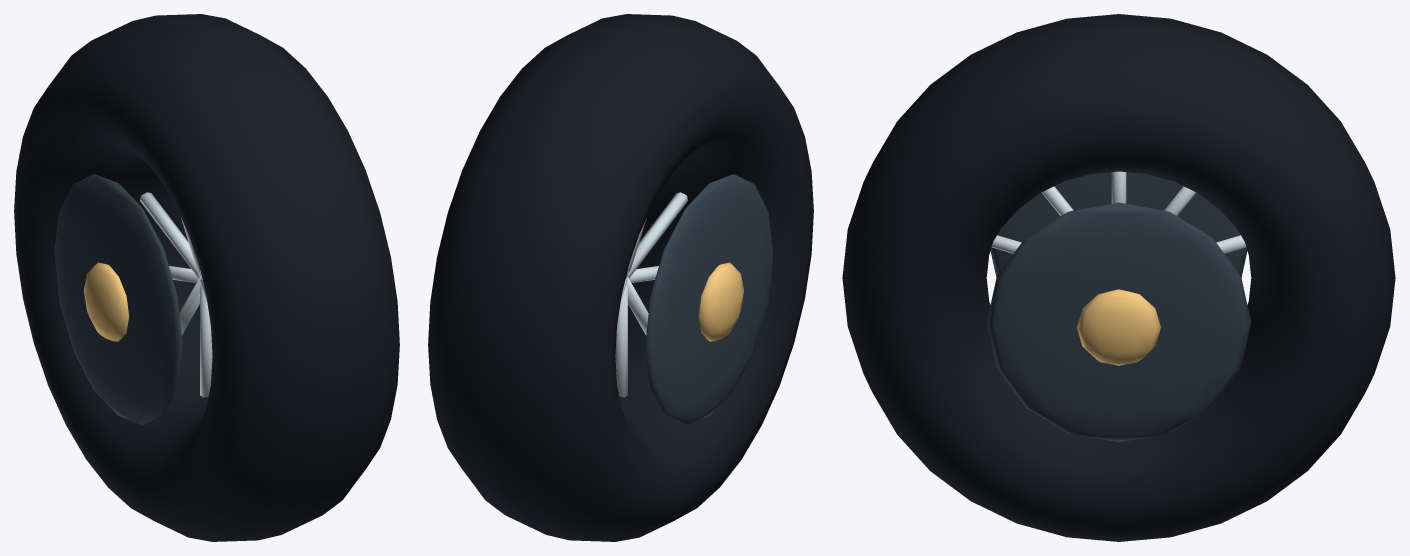
Rendered from yuda_wheel.glb.
3 renders of one model, left to right at view 1: azimuth 30°, elevation 25°; view 2: azimuth 150°, elevation 25°; view 3: azimuth 270°, elevation 25°, orthographic. The views are drawn at different scales.
Visible parts, largest first — view 1: Torus, Sphere, Sphere.001, Cone.008, Cone.005, Cone.006; view 2: Torus, Sphere, Sphere.001, Cone.002, Cone.005, Cone.004; view 3: Torus, Sphere.002, Sphere, Sphere.003.
Part boxes in pixels (x1=…): Torus: x1=14, y1=14, x2=399, y2=541; Sphere: x1=54, y1=174, x2=182, y2=424; Sphere.001: x1=84, y1=262, x2=129, y2=341; Cone.008: x1=140, y1=192, x2=201, y2=278; Cone.005: x1=200, y1=285, x2=212, y2=397; Cone.006: x1=179, y1=276, x2=201, y2=335; Torus: x1=428, y1=14, x2=813, y2=541; Sphere: x1=645, y1=174, x2=773, y2=424; Sphere.001: x1=698, y1=262, x2=743, y2=341; Cone.002: x1=627, y1=192, x2=687, y2=278; Cone.005: x1=615, y1=278, x2=627, y2=397; Cone.004: x1=626, y1=276, x2=648, y2=335; Torus: x1=842, y1=14, x2=1395, y2=541; Sphere.002: x1=986, y1=202, x2=1251, y2=442; Sphere: x1=990, y1=172, x2=1247, y2=277; Sphere.003: x1=1077, y1=289, x2=1160, y2=365.
Size of the model in its own units: 0.89 by 1.84 by 1.84.
